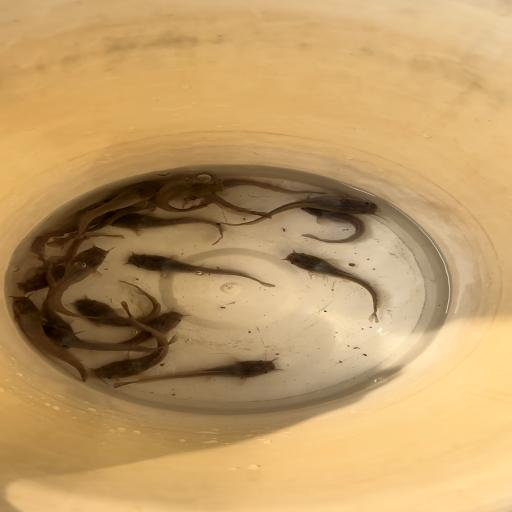lele: (280, 249, 382, 323), (6, 295, 88, 382), (14, 234, 126, 293), (65, 180, 162, 246), (26, 198, 120, 262), (122, 250, 276, 288), (218, 195, 380, 230), (108, 358, 279, 389), (43, 201, 155, 248), (74, 275, 162, 328), (34, 321, 180, 352), (107, 210, 225, 246), (294, 198, 367, 244), (41, 262, 78, 350), (95, 310, 184, 345), (197, 176, 322, 196), (186, 192, 273, 220), (153, 180, 225, 213)
